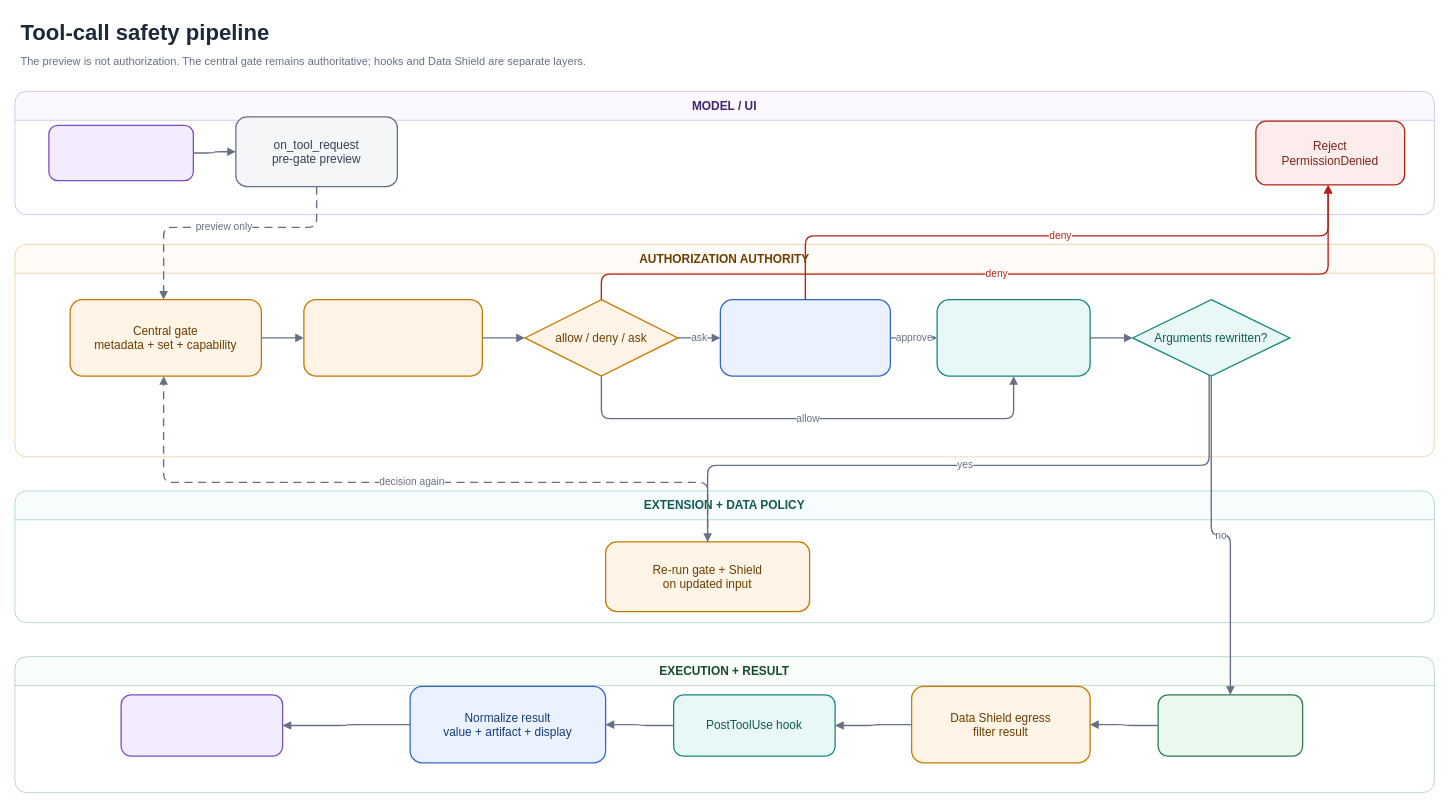
This 1449x808 diagram has some shape labels left out. Here are the shapes that lost their labels. From the top down, the box of each, then its label:
(48, 124, 194, 181): Model tool request
(303, 299, 483, 376): Data Shield ingress args / tool policy
(719, 299, 891, 376): ask_fn / host approval
(936, 299, 1090, 376): PreToolUse hooks
(120, 694, 283, 756): Return to model then UI callback
(1157, 694, 1303, 756): Execute tool
